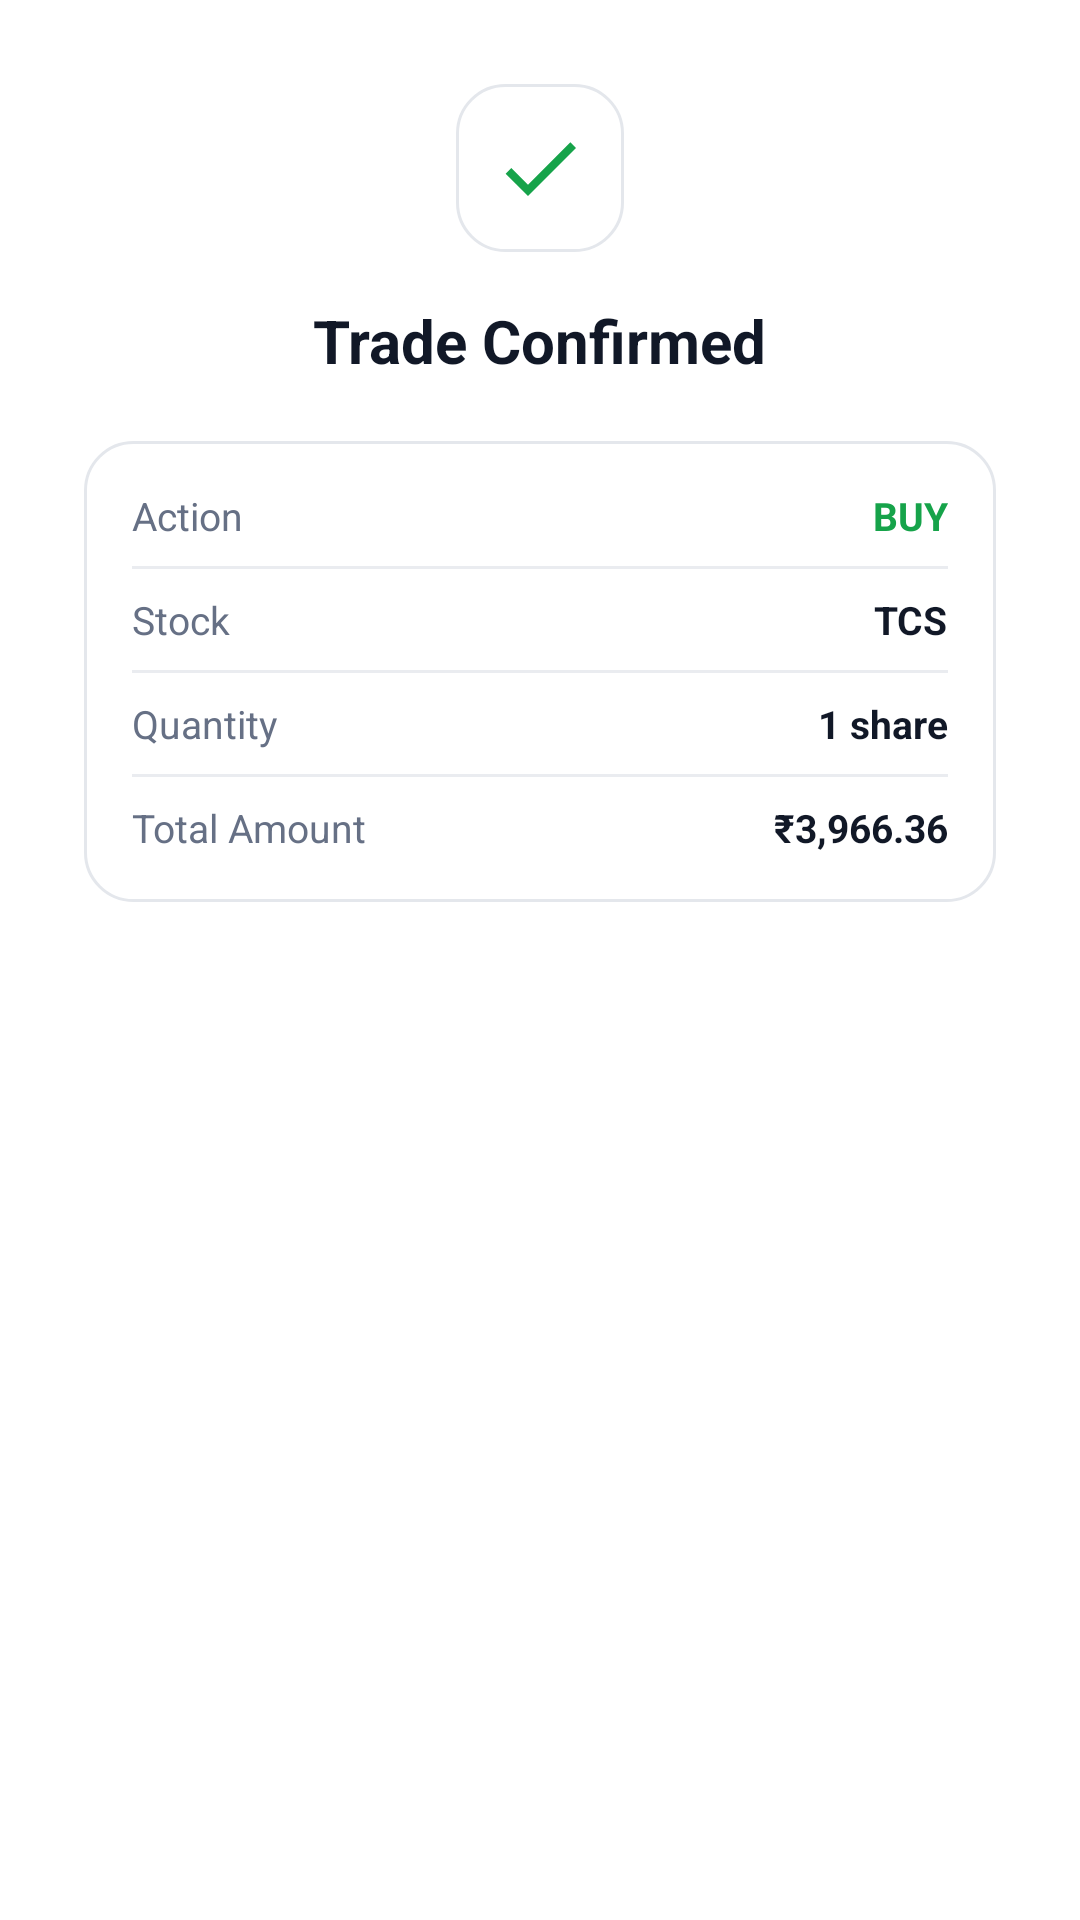

Screen size 1080 × 1920. Icon name, then its center in pixels as (x=x, y=y):
Success: (x=540, y=168)
